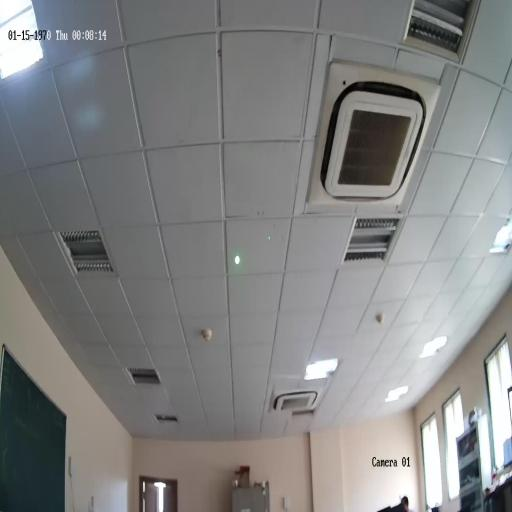laser: (234, 254, 241, 266)
